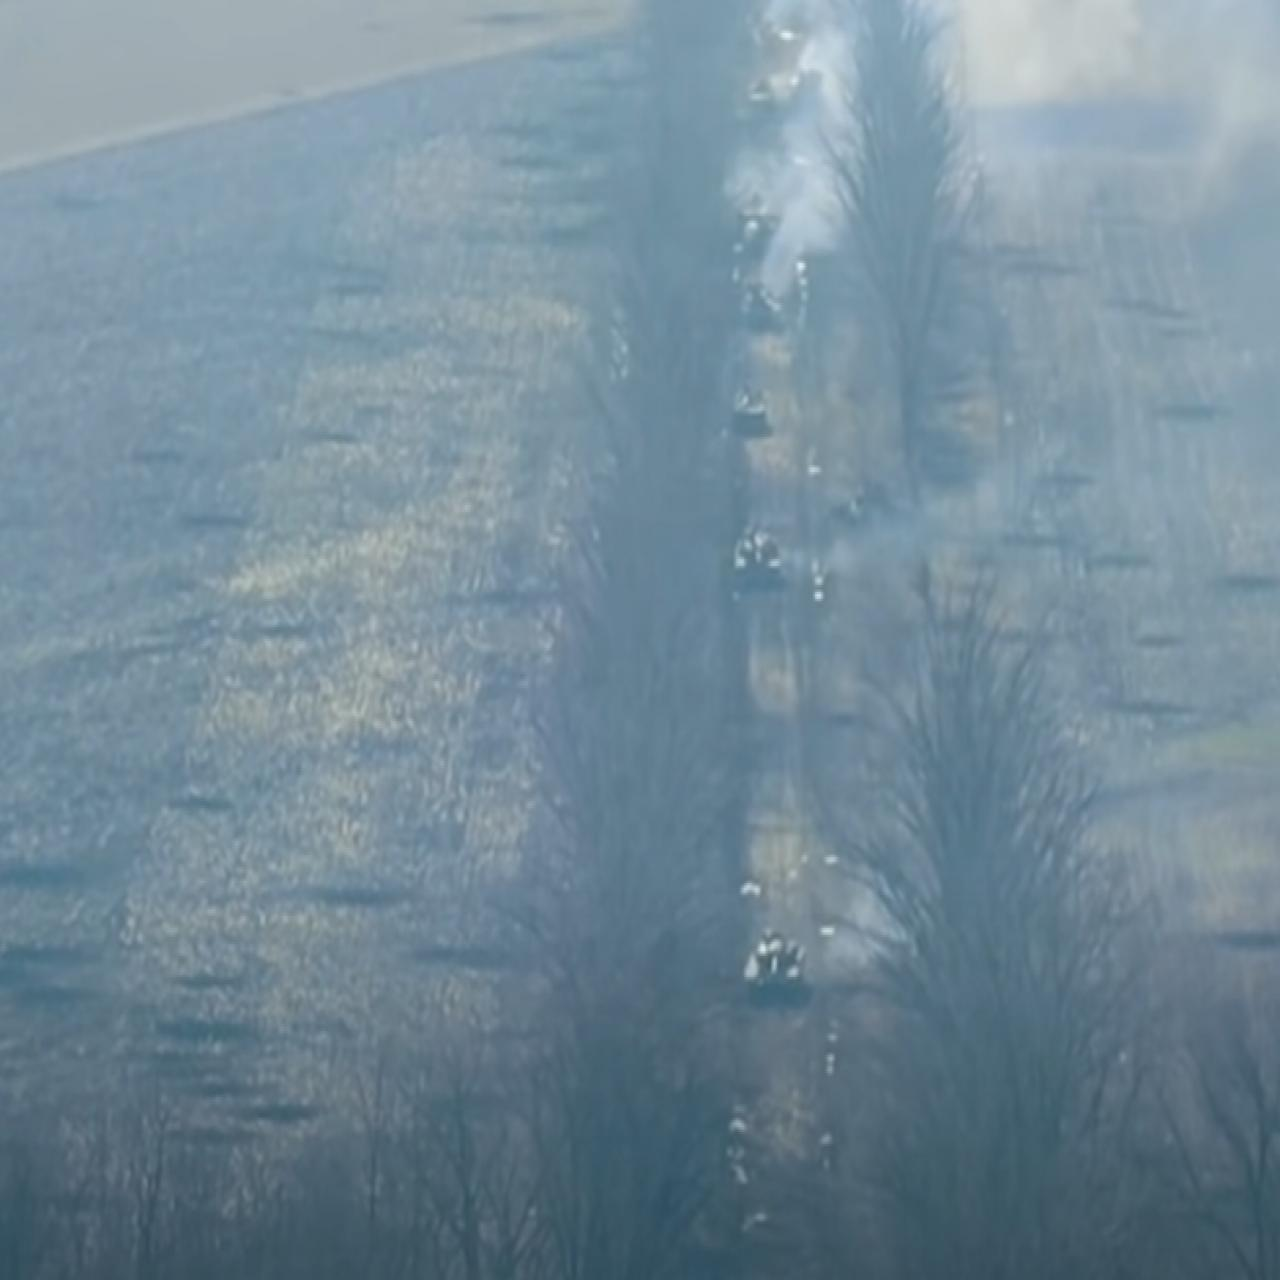MIL_Veh: (721, 921, 812, 998), (717, 515, 788, 588), (723, 279, 790, 333), (722, 381, 774, 434)
